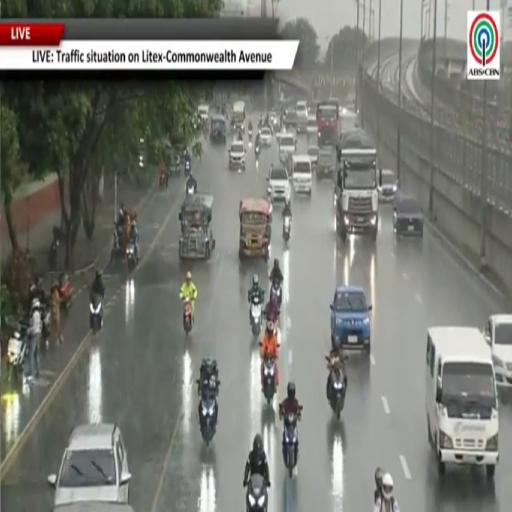bus: (316, 100, 341, 147)
car: (47, 423, 131, 506), (330, 285, 371, 354), (484, 314, 511, 388), (393, 194, 423, 236), (267, 165, 290, 201), (53, 502, 134, 511), (378, 169, 398, 202), (316, 147, 335, 179), (229, 141, 245, 169), (307, 146, 319, 168), (259, 126, 272, 146), (340, 107, 357, 120), (307, 116, 317, 137), (269, 111, 279, 132), (198, 104, 209, 121)
jeepney: (179, 193, 215, 259), (239, 199, 271, 261), (210, 115, 226, 143)
motorcycle: (7, 324, 28, 385), (326, 357, 346, 419), (283, 414, 299, 477), (200, 393, 217, 445), (246, 474, 267, 511), (262, 357, 276, 404), (49, 227, 61, 269), (59, 274, 73, 310), (250, 298, 262, 337), (90, 294, 102, 333), (41, 301, 50, 350), (111, 222, 123, 258), (183, 298, 193, 333), (270, 281, 282, 308), (126, 244, 136, 273), (282, 216, 292, 243), (159, 170, 168, 189), (184, 158, 191, 177), (186, 184, 196, 196), (255, 144, 260, 157), (248, 128, 253, 140)
truck: (336, 146, 381, 241)
